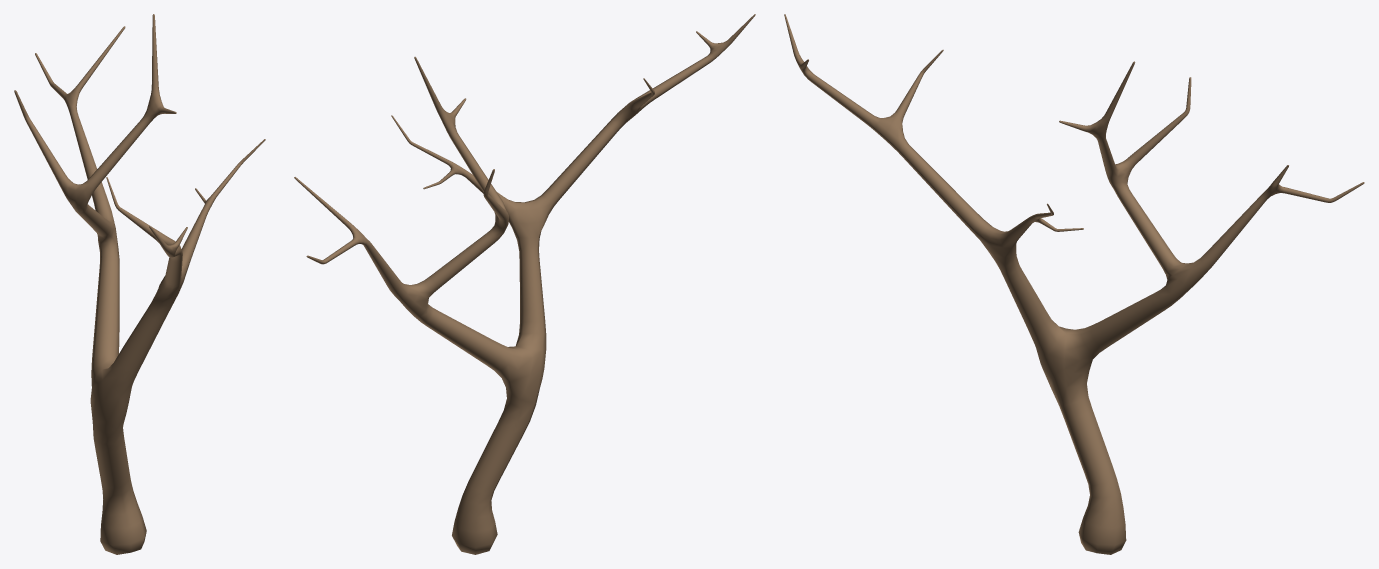
File: Tree_Dead_02.fbx
The picture shows the model from 3 angles, left to right: view 1: azimuth 30°, elevation 25°; view 2: azimuth 150°, elevation 25°; view 3: azimuth 270°, elevation 25°; orthographic projection. The views are drawn at different scales.
Parts seen in each view (by area): view 1: Tree_Dead_02_Geometry; view 2: Tree_Dead_02_Geometry; view 3: Tree_Dead_02_Geometry.
Boxes of the visible parts, bbox=[...] form: Tree_Dead_02_Geometry: bbox=[14, 14, 265, 554]; Tree_Dead_02_Geometry: bbox=[294, 14, 755, 554]; Tree_Dead_02_Geometry: bbox=[784, 14, 1364, 554].
Bounding box in the file's own units: 3.29 × 6.53 × 6.69.
